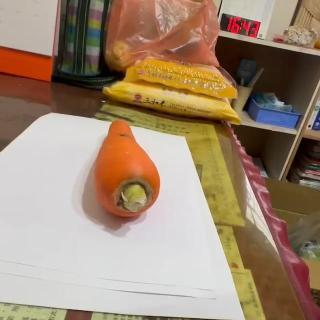carrot: (92, 119, 162, 222)
